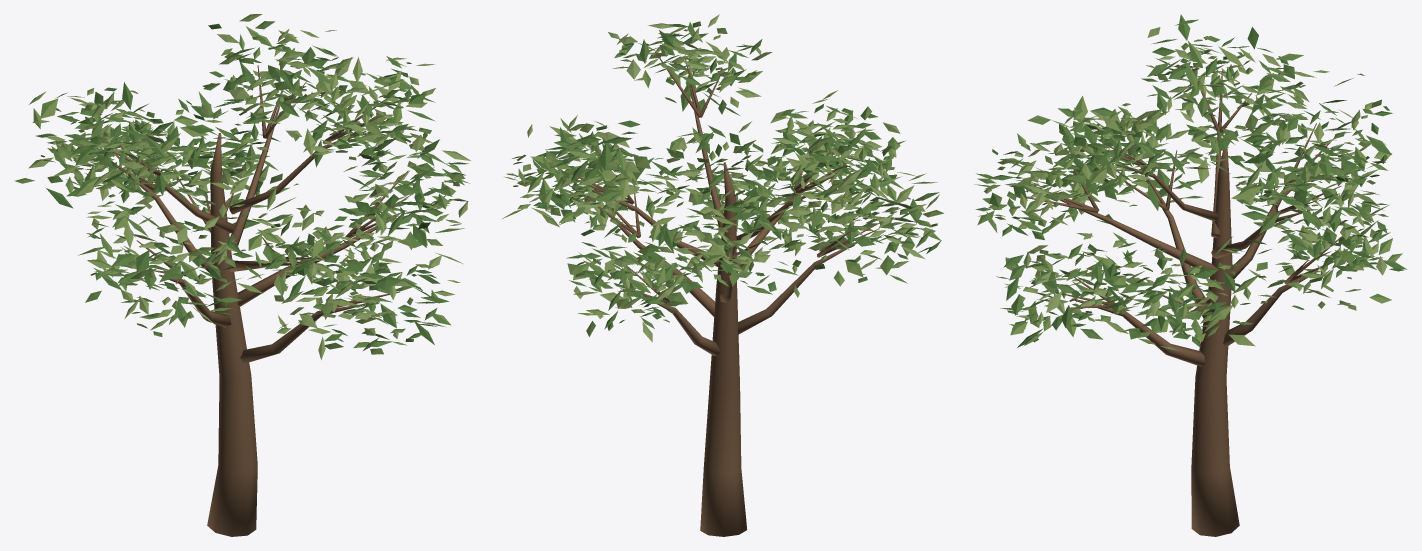
The model's file is old-town-park-tree-broad.glb.
3 renders of one model, left to right at view 1: azimuth 30°, elevation 25°; view 2: azimuth 150°, elevation 25°; view 3: azimuth 270°, elevation 25°, orthographic. The views are drawn at different scales.
Visible parts, largest first — view 1: Folded leaf canopy, Trunk and branch structure; view 2: Folded leaf canopy, Trunk and branch structure; view 3: Folded leaf canopy, Trunk and branch structure.
Part boxes in pixels (x1=…): Folded leaf canopy: x1=15, y1=14, x2=470, y2=359; Trunk and branch structure: x1=105, y1=65, x2=412, y2=536; Folded leaf canopy: x1=502, y1=14, x2=943, y2=342; Trunk and branch structure: x1=569, y1=52, x2=881, y2=536; Folded leaf canopy: x1=974, y1=14, x2=1406, y2=350; Trunk and branch structure: x1=1026, y1=68, x2=1342, y2=536.
Bounding box in the file's own units: 3.26 × 3.52 × 3.01.
